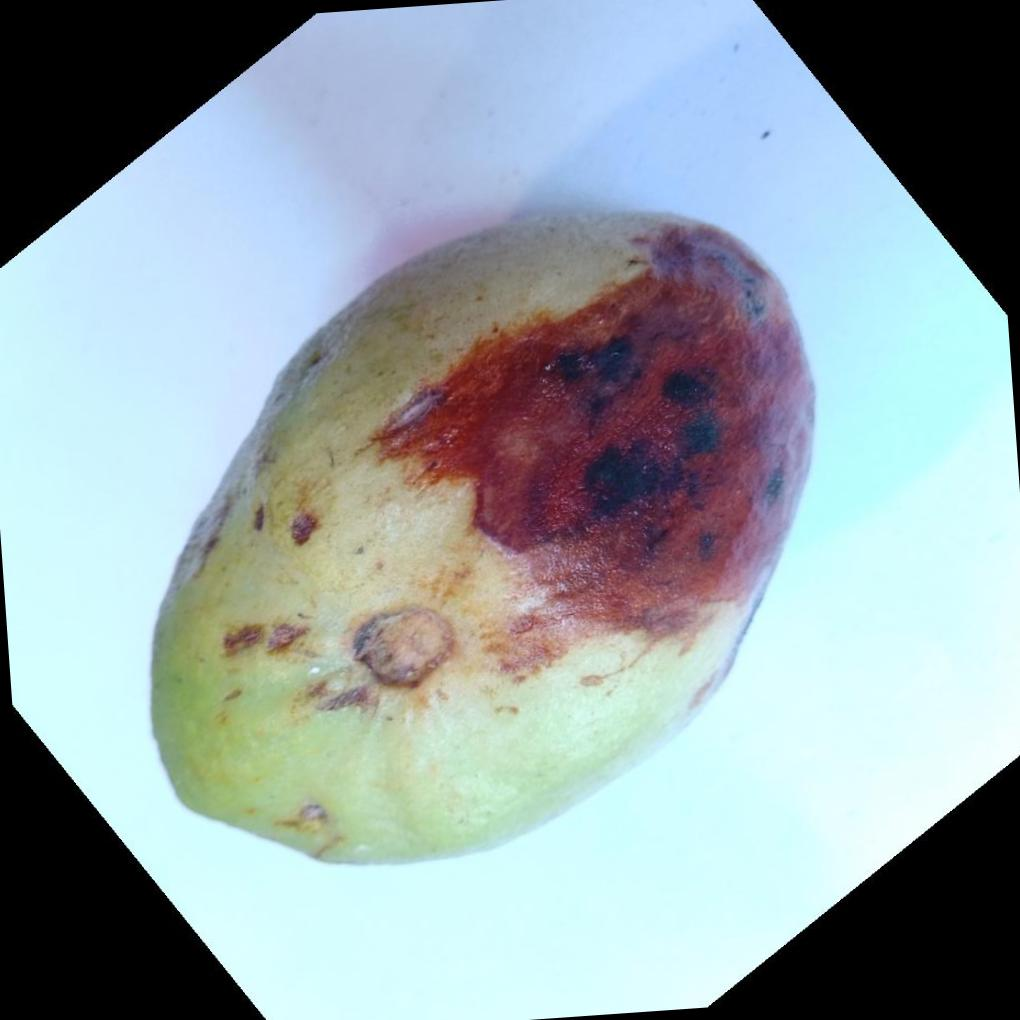FreshOrange: (150, 204, 822, 868)
